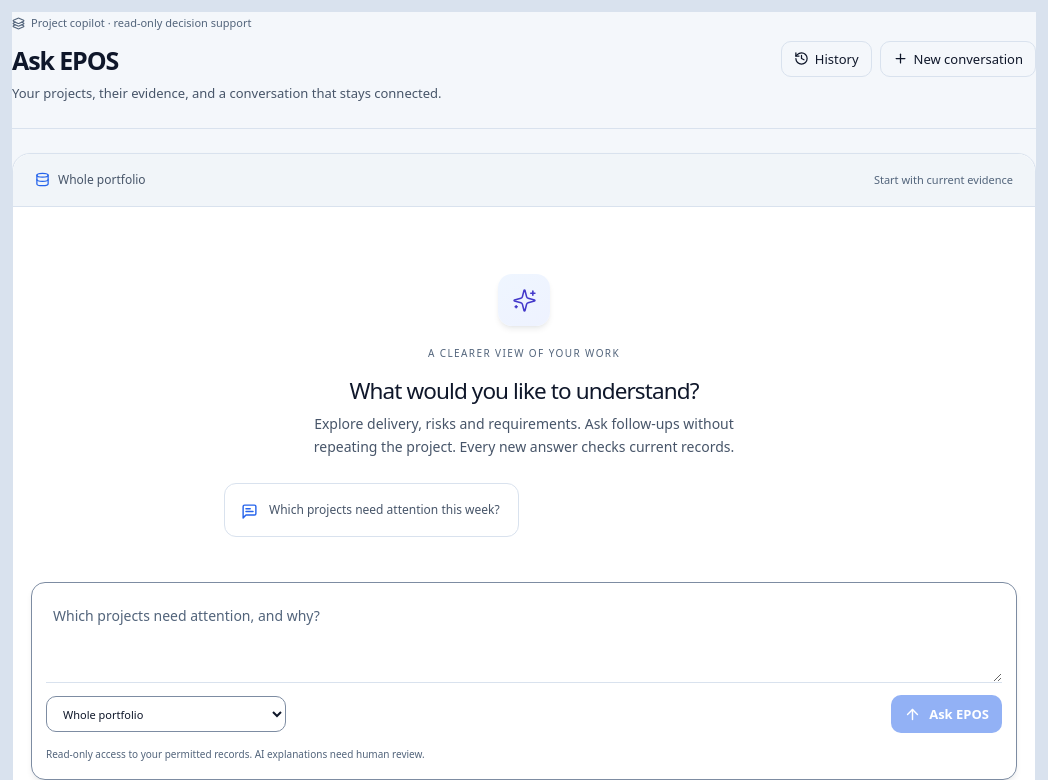
AskEposPage › labels a deterministic lookup separately from AI explanation
The width and height of the screenshot is (1048, 780).
Type "list projects" into the text box named "Ask a question".
click(524, 639); type("list projects")  # box [46,597,1002,682]
Then press Enter
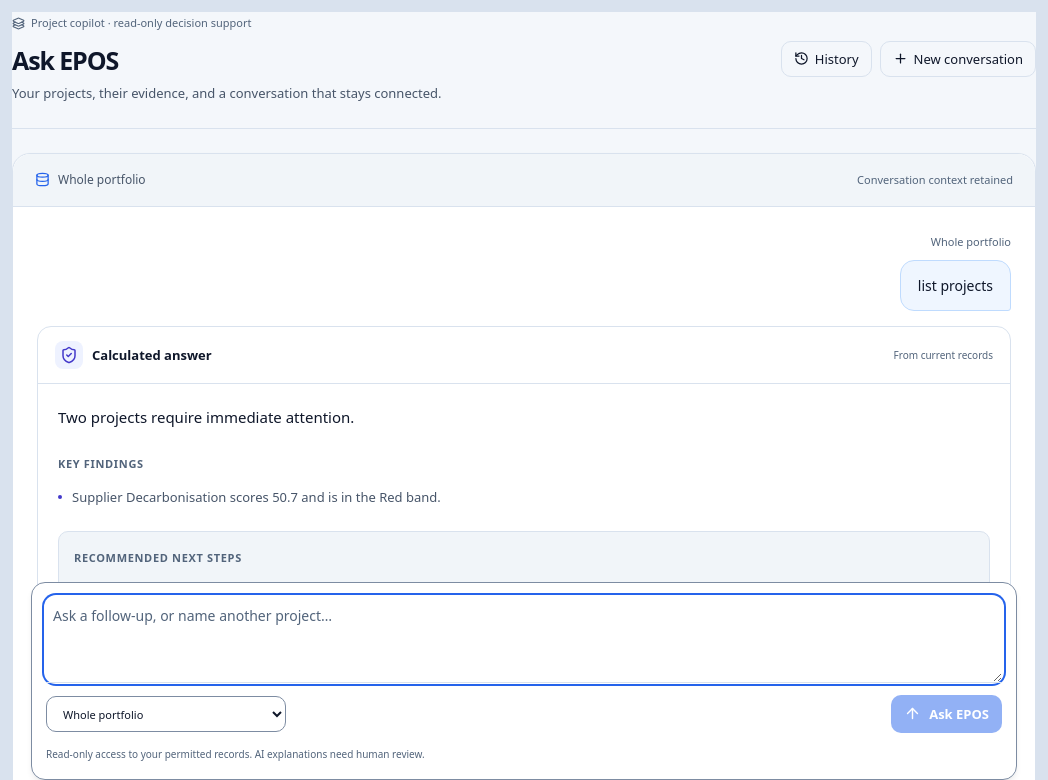
Expected: the heading "Calculated answer" is shown, [92,344,212,366]
